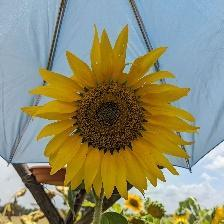sunflower: (45, 62, 182, 190)
